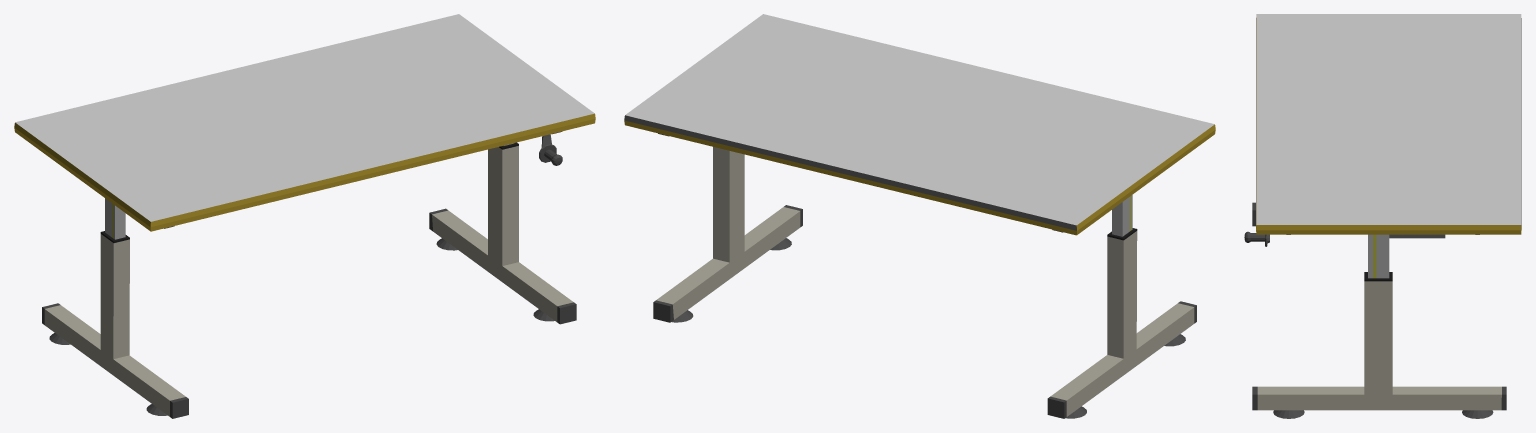
The model's file is technicalTable1.obj.
The picture shows the model from 3 angles, left to right: view 1: azimuth 30°, elevation 25°; view 2: azimuth 150°, elevation 25°; view 3: azimuth 270°, elevation 25°; orthographic projection. The views are drawn at different scales.
Visible parts, largest first — view 1: Bordd1.001_Plane; view 2: Bordd1.001_Plane; view 3: Bordd1.001_Plane.
Boxes of the visible parts, <box> form: Bordd1.001_Plane: <box>14,14,595,418</box>; Bordd1.001_Plane: <box>624,14,1215,418</box>; Bordd1.001_Plane: <box>1244,14,1521,418</box>.
Size of the model in its own units: 215 by 95.08 by 119.
